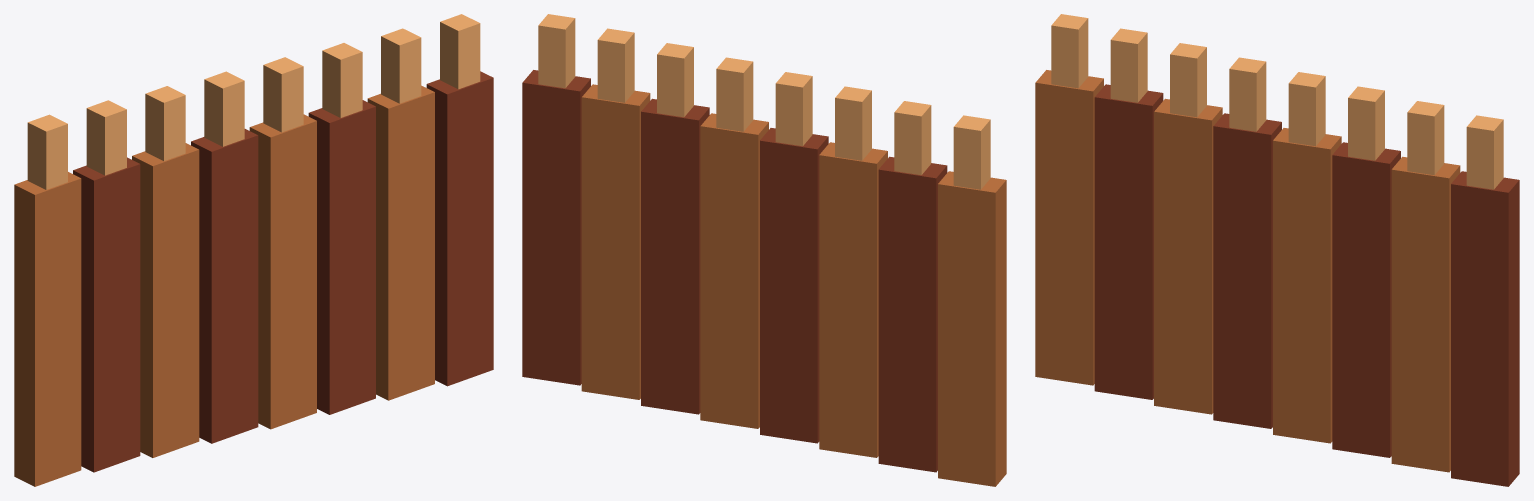
File: copper-anodes.glb
3 renders of one model, left to right at view 1: azimuth 30°, elevation 25°; view 2: azimuth 150°, elevation 25°; view 3: azimuth 330°, elevation 25°, orthographic.
Parts seen in each view (by area): view 1: copper-anodes; view 2: copper-anodes; view 3: copper-anodes.
Part boxes in pixels (x1,y1,x2,y2): copper-anodes: (14,14,493,486); copper-anodes: (522,14,1006,486); copper-anodes: (1035,14,1519,486).
Size of the model in its own units: 3.03 by 2.16 by 0.238.
